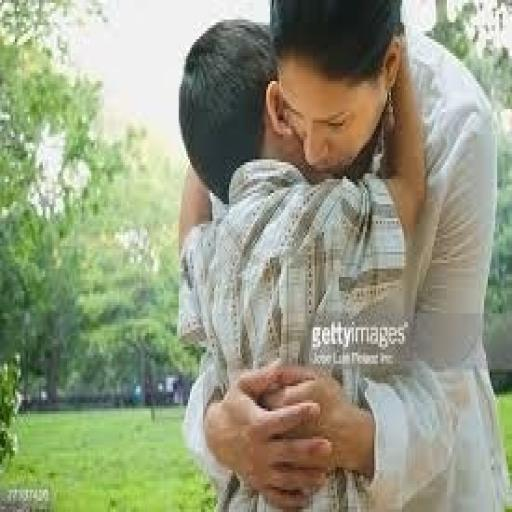hugging: (175, 3, 508, 509)
